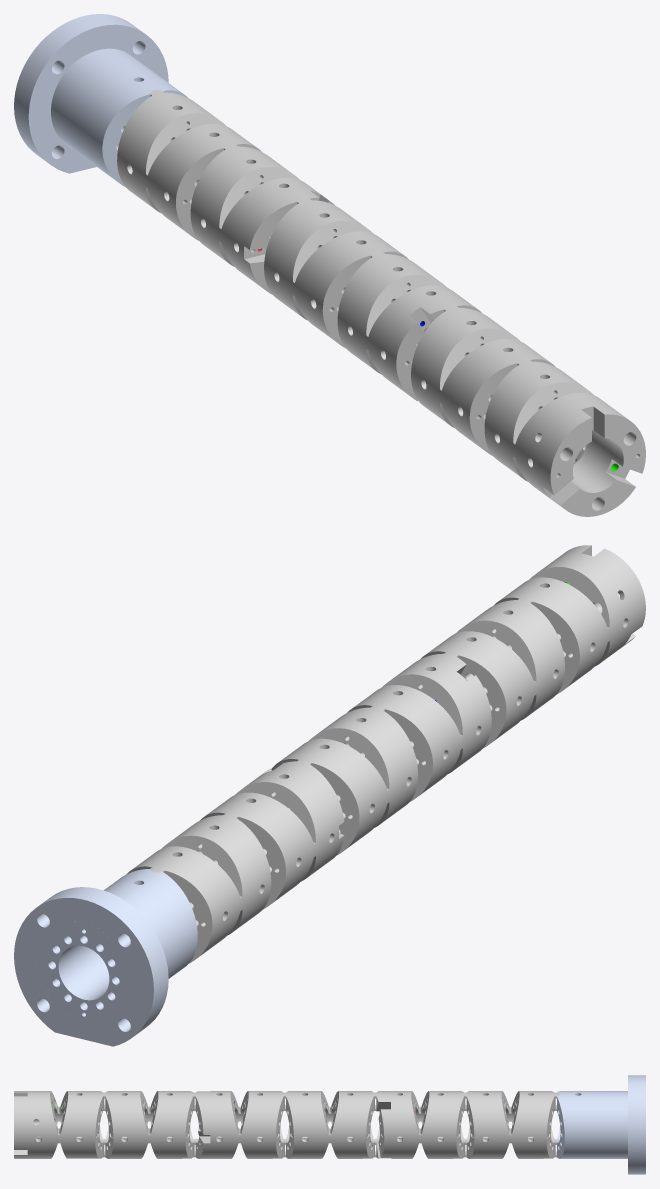
Rendered from continuum_robot.glb.
3 views of the same model, one above another, from view 1: azimuth 30°, elevation 25°; view 2: azimuth 150°, elevation 25°; view 3: azimuth 270°, elevation 25° (orthographic). The views are drawn at different scales.
Visible parts, largest first — view 1: 基座-2, 头部-1, 臂体·-1, 第三段头部-1, 第二段头部-1, 臂体·-5, 臂体·-11, 臂体·-2, 臂体·-4, 臂体·-10, 臂体·-6, 臂体·-12 (+1 smaller); view 2: 基座-2, 头部-1, 臂体·-3, 臂体·-6, 臂体·-1, 臂体·-12, 臂体·-10, 臂体·-4, 臂体·-11, 臂体·-5, 臂体·-2, 第三段头部-1 (+1 smaller); view 3: 基座-2, 头部-1, 臂体·-11, 臂体·-2, 臂体·-5, 第二段头部-1, 第三段头部-1, 臂体·-1, 臂体·-3, 臂体·-10, 臂体·-12, 臂体·-6 (+1 smaller).
Part boxes in pixels (x1,y1,x2,y2): 基座-2: (14, 14, 187, 186); 头部-1: (510, 392, 645, 516); 臂体·-1: (484, 359, 593, 481); 第三段头部-1: (216, 177, 335, 294); 第二段头部-1: (363, 285, 481, 401); 臂体·-5: (289, 231, 408, 348); 臂体·-11: (142, 124, 261, 240); 臂体·-2: (436, 339, 555, 455); 臂体·-4: (337, 251, 447, 374); 臂体·-10: (190, 143, 299, 266); 臂体·-6: (264, 197, 373, 320); 臂体·-12: (117, 90, 225, 212); 基座-2: (14, 869, 197, 1046); 头部-1: (529, 545, 645, 666); 臂体·-3: (421, 631, 534, 747); 臂体·-6: (271, 738, 387, 855); 臂体·-1: (494, 577, 607, 694); 臂体·-12: (126, 846, 240, 963); 臂体·-10: (200, 792, 313, 909); 臂体·-4: (347, 685, 460, 801); 臂体·-11: (161, 815, 271, 935); 臂体·-5: (309, 707, 418, 827); 臂体·-2: (455, 600, 564, 720); 第三段头部-1: (235, 761, 344, 881); 基座-2: (557, 1075, 645, 1174); 头部-1: (14, 1091, 63, 1158); 臂体·-11: (466, 1091, 514, 1158); 臂体·-2: (105, 1091, 153, 1158); 臂体·-5: (286, 1091, 334, 1158); 第二段头部-1: (195, 1091, 244, 1158); 第三段头部-1: (376, 1091, 424, 1158); 臂体·-1: (60, 1091, 108, 1158); 臂体·-3: (150, 1091, 198, 1158); 臂体·-10: (421, 1091, 469, 1158); 臂体·-12: (511, 1091, 560, 1158); 臂体·-6: (331, 1091, 379, 1158).
Bounding box in the file's own units: 0.022 × 0.021 × 0.14.
